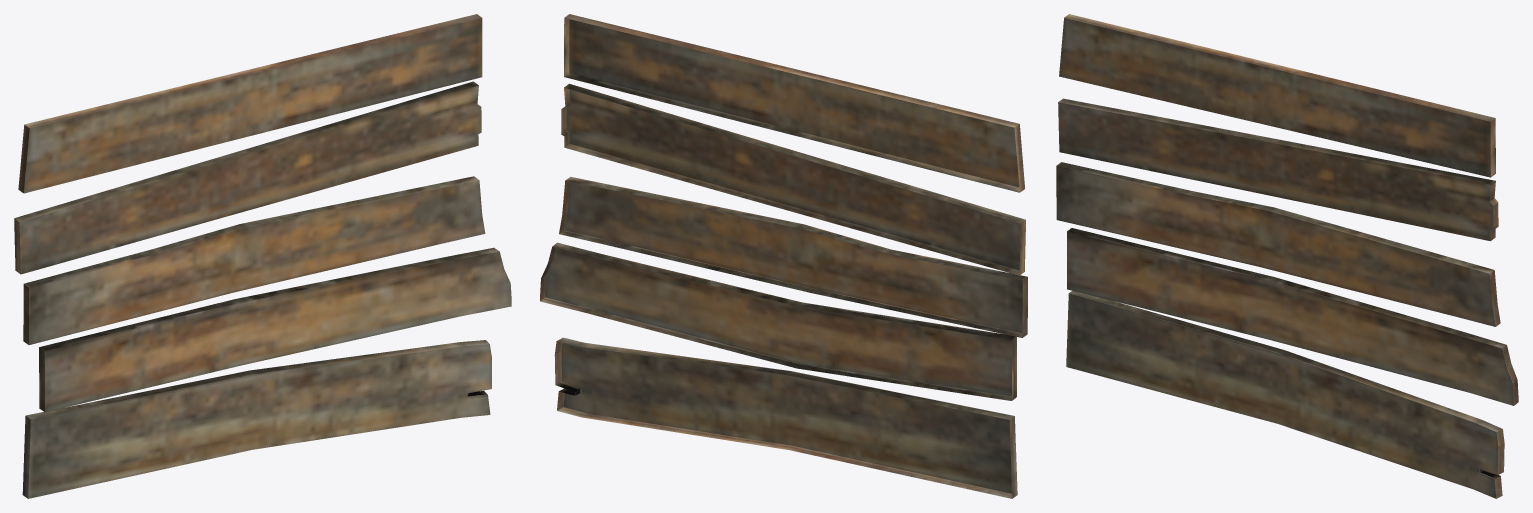
File: BrownPlanks_Looby.FBX
3 views of the same model, side by side, from view 1: azimuth 30°, elevation 25°; view 2: azimuth 150°, elevation 25°; view 3: azimuth 330°, elevation 25° (orthographic). The views are drawn at different scales.
Parts seen in each view (by area): view 1: BrownPlanks_Looby; view 2: BrownPlanks_Looby; view 3: BrownPlanks_Looby.
Part boxes in pixels (x1,y1,x2,y2): BrownPlanks_Looby: (14,14,511,498); BrownPlanks_Looby: (540,14,1027,498); BrownPlanks_Looby: (1056,14,1518,498).
Bounding box in the file's own units: 179 × 139 × 9.64.
